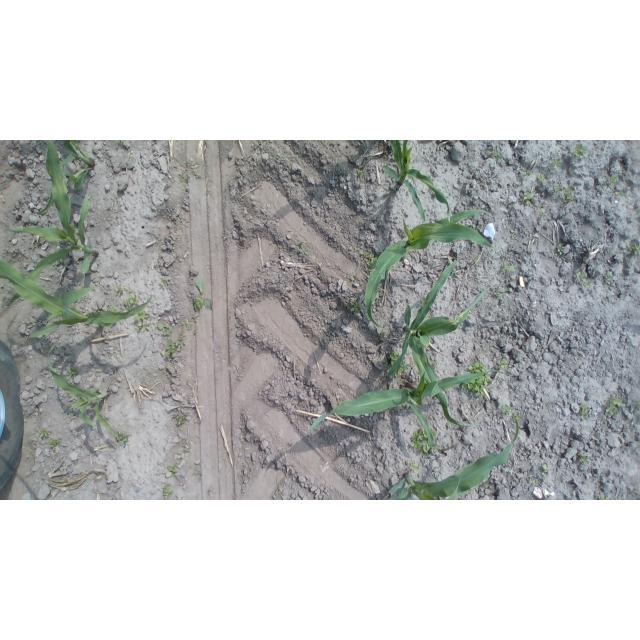Maize: (4, 140, 100, 302), (388, 259, 480, 428), (310, 370, 504, 450), (366, 210, 495, 329), (0, 257, 152, 340), (389, 414, 520, 500), (47, 345, 118, 435), (382, 141, 450, 224), (37, 140, 95, 216)
Weeds: (411, 426, 439, 453), (460, 382, 492, 397), (604, 395, 624, 418), (165, 331, 183, 356), (289, 241, 311, 255), (182, 315, 199, 331), (115, 430, 130, 448), (571, 142, 587, 158), (467, 360, 486, 372), (159, 322, 174, 337), (124, 293, 140, 307), (562, 185, 574, 203), (162, 483, 174, 500), (500, 262, 515, 275), (576, 452, 592, 464), (539, 460, 549, 479), (626, 242, 640, 255), (522, 191, 534, 206), (195, 275, 205, 293), (579, 403, 589, 420), (349, 300, 362, 313), (48, 438, 61, 451), (193, 296, 203, 312), (496, 358, 508, 370), (175, 414, 187, 426), (136, 322, 152, 331), (178, 172, 190, 184), (499, 402, 512, 413), (606, 175, 620, 185), (135, 312, 150, 321), (68, 366, 79, 378), (203, 298, 214, 310), (389, 352, 399, 365), (114, 285, 124, 298), (168, 463, 179, 474), (553, 183, 563, 194), (187, 157, 196, 169), (520, 169, 533, 177), (479, 374, 492, 382), (537, 173, 547, 183), (491, 150, 502, 159), (554, 158, 563, 169), (557, 243, 565, 255), (37, 428, 49, 436), (409, 464, 419, 473), (378, 331, 386, 342), (183, 440, 190, 452), (581, 281, 591, 289), (370, 251, 377, 262), (575, 272, 586, 279), (401, 362, 410, 370), (615, 190, 623, 199), (110, 304, 118, 313), (160, 278, 168, 287), (395, 368, 402, 378), (514, 410, 521, 420), (492, 291, 503, 297), (382, 356, 389, 365), (360, 249, 368, 256), (529, 477, 536, 485), (192, 170, 199, 178), (598, 494, 607, 500), (540, 211, 546, 219), (359, 170, 366, 176), (483, 482, 489, 489), (606, 274, 611, 282), (634, 486, 639, 494), (473, 257, 479, 263), (634, 401, 640, 407), (176, 219, 181, 226), (337, 159, 342, 165), (433, 361, 438, 367), (511, 232, 515, 239), (537, 206, 542, 211), (506, 288, 511, 293), (116, 141, 124, 144), (354, 275, 359, 279), (320, 167, 324, 169)
